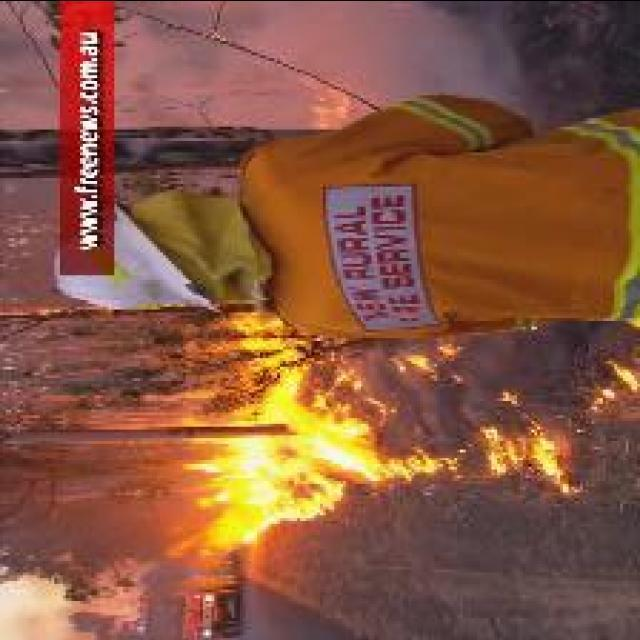Fire: (168, 339, 640, 559), (208, 312, 286, 334)
